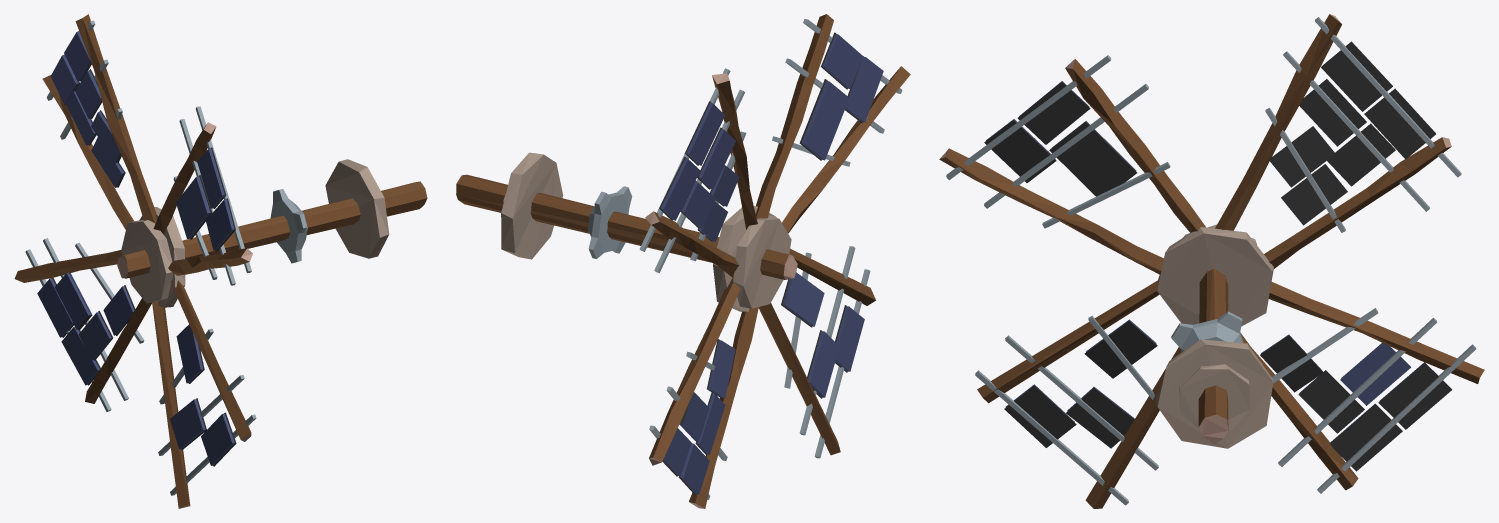
Rendered from mill_dynamic.fbx.
The picture shows the model from 3 angles, left to right: view 1: azimuth 30°, elevation 25°; view 2: azimuth 150°, elevation 25°; view 3: azimuth 270°, elevation 25°; orthographic projection. The views are drawn at different scales.
Parts seen in each view (by area): view 1: mill_dynamic; view 2: mill_dynamic; view 3: mill_dynamic.
Boxes of the visible parts, x1=… form: mill_dynamic: x1=14, y1=14, x2=427, y2=508; mill_dynamic: x1=456, y1=14, x2=910, y2=508; mill_dynamic: x1=939, y1=14, x2=1484, y2=508.
Size of the model in its own units: 721 by 959 by 962.
